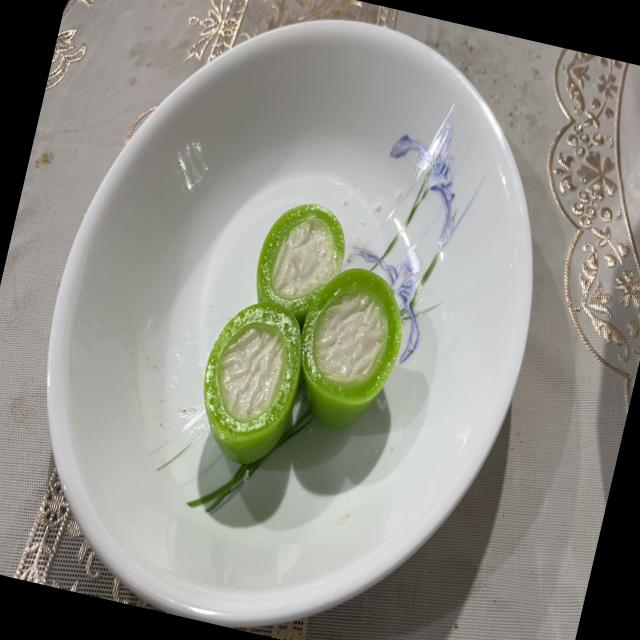nona-manis: (301, 268, 402, 429), (203, 303, 301, 464), (256, 203, 345, 325)
